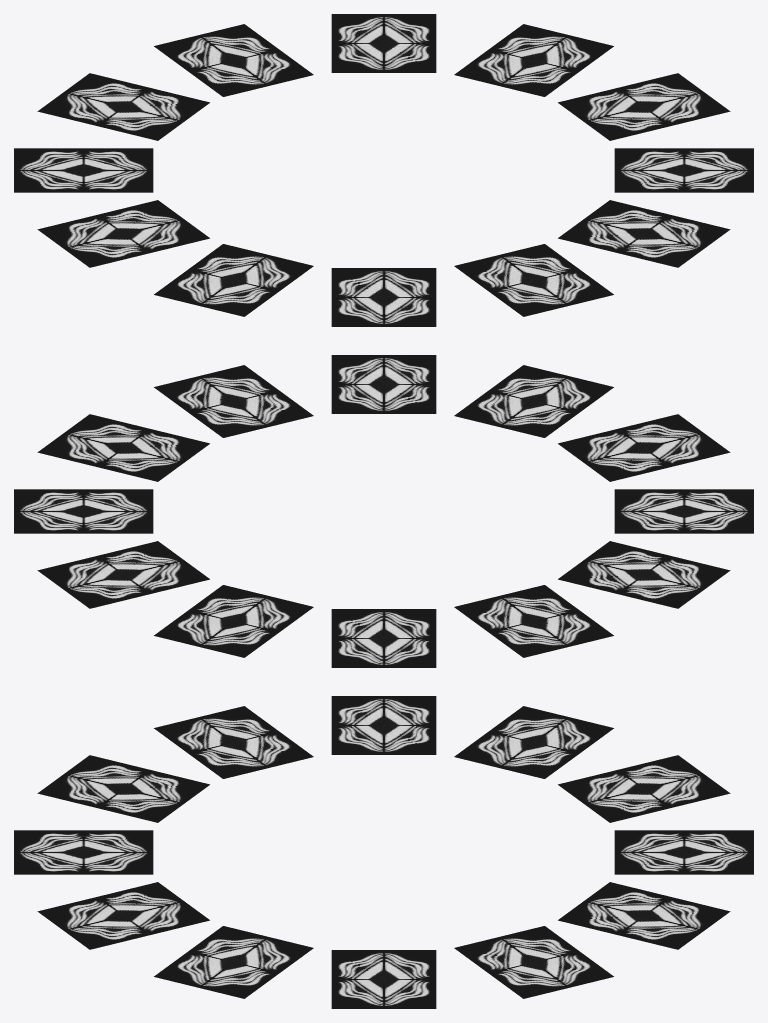
The model's file is spirale.dae.
3 renders of one model, top to bottom at view 1: azimuth 30°, elevation 25°; view 2: azimuth 150°, elevation 25°; view 3: azimuth 270°, elevation 25°, orthographic.
Visible parts, largest first — view 1: spirale.8, spirale.2, spirale.9, spirale.7, spirale.3, spirale.1, spirale.12, spirale.10, spirale.6, spirale.4, spirale.11, spirale.5; view 2: spirale.10, spirale.4, spirale.11, spirale.9, spirale.5, spirale.3, spirale.12, spirale.8, spirale.6, spirale.2, spirale.7, spirale.1; view 3: spirale.12, spirale.6, spirale.11, spirale.7, spirale.5, spirale.1, spirale.10, spirale.8, spirale.4, spirale.2, spirale.9, spirale.3.
Part boxes in pixels (x1,y1,x2,y2): spirale.8: (614, 148, 753, 192); spirale.2: (14, 148, 153, 192); spirale.9: (558, 73, 730, 140); spirale.7: (558, 200, 730, 267); spirale.3: (37, 200, 209, 267); spirale.1: (37, 73, 209, 140); spirale.12: (154, 24, 313, 96); spirale.10: (454, 24, 613, 96); spirale.6: (454, 244, 613, 316); spirale.4: (154, 244, 313, 316); spirale.11: (331, 14, 436, 72); spirale.5: (331, 268, 436, 326); spirale.10: (14, 489, 153, 533); spirale.4: (614, 489, 753, 533); spirale.11: (37, 541, 209, 608); spirale.9: (37, 414, 209, 481); spirale.5: (558, 414, 730, 481); spirale.3: (558, 541, 730, 608); spirale.12: (154, 585, 313, 657); spirale.8: (154, 365, 313, 437); spirale.6: (454, 365, 613, 437); spirale.2: (454, 585, 613, 657); spirale.7: (331, 355, 436, 413); spirale.1: (331, 609, 436, 667); spirale.12: (614, 830, 753, 874); spirale.6: (14, 830, 153, 874); spirale.11: (558, 882, 730, 949); spirale.7: (37, 882, 209, 949); spirale.5: (37, 755, 209, 822); spirale.1: (558, 755, 730, 822); spirale.10: (454, 926, 613, 998); spirale.8: (154, 926, 313, 998); spirale.4: (154, 706, 313, 778); spirale.2: (454, 706, 613, 778); spirale.9: (331, 950, 436, 1008); spirale.3: (331, 696, 436, 754).
Size of the model in its own units: 4285 by 9.06e-06 by 4285.
Materials: 1 (1 with a texture image).
